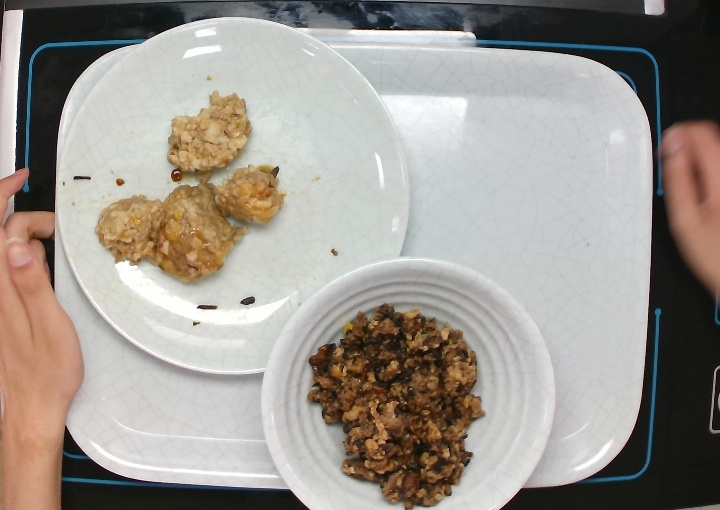JYsf-Da_Yuan_Pan: (56, 14, 411, 379)
JYsf-Xiao_Tang_Wan: (259, 258, 565, 510)
